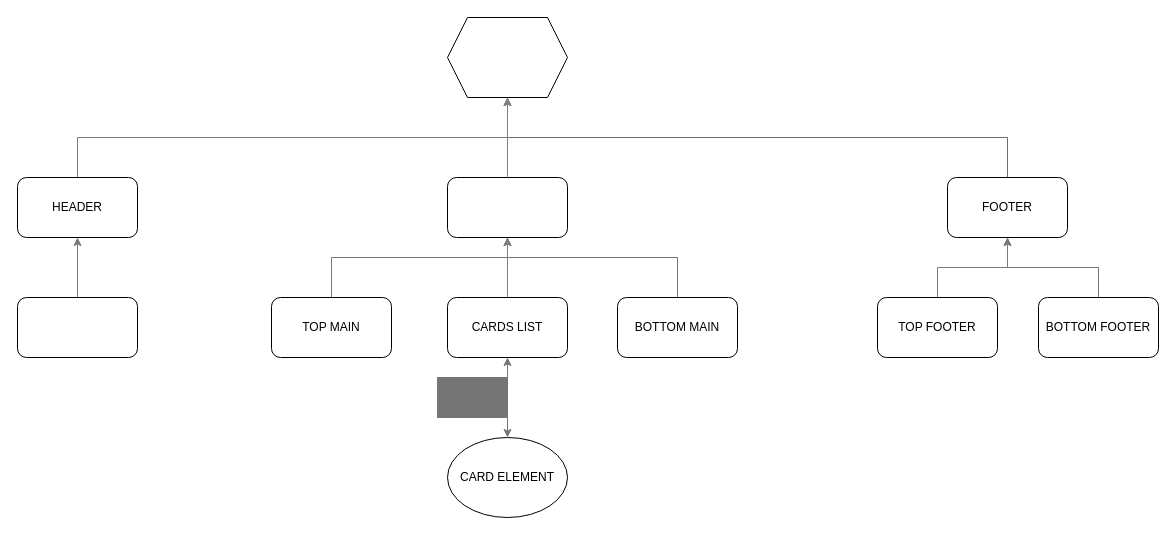
The diagram is 1176 pixels wide and 535 high, and some of its shapes have lost their labels. The shapes that lost their labels are listed below. From the top down, each one's centre as x and y in pixels, then its label:
[507,57]: APP
[507,207]: MAIN
[77,327]: NAV
[472,397]: Props: img, title
